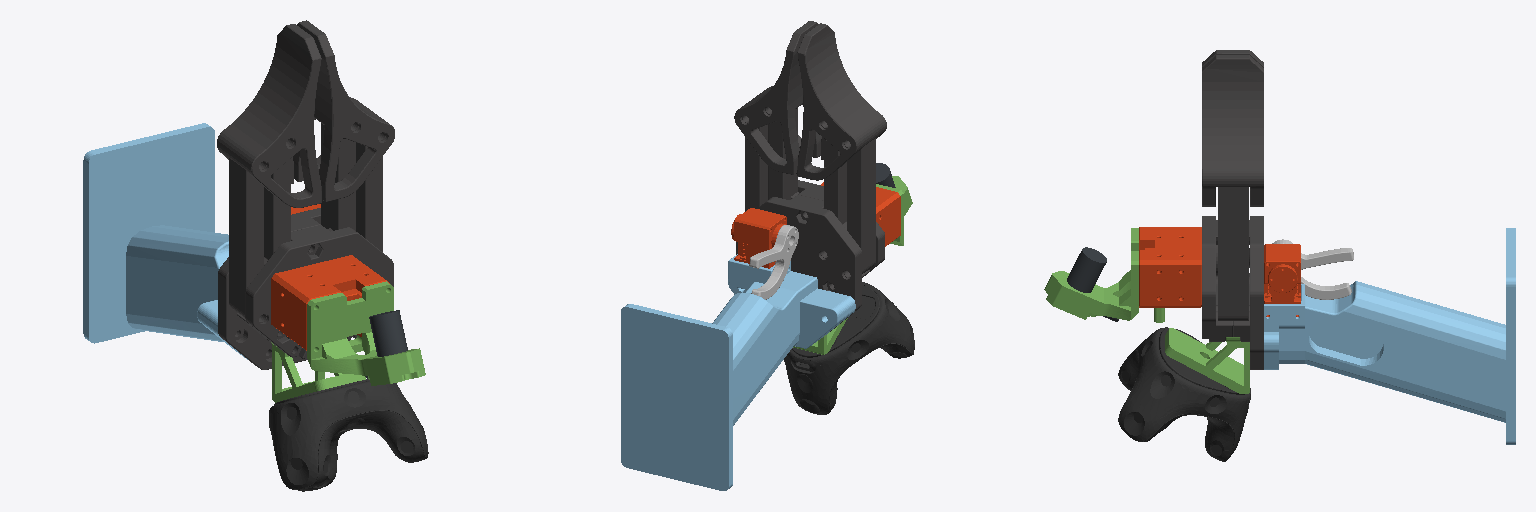
robot.urdf — umi_arai:
<?xml version='1.0' encoding='utf-8'?>
<robot name="umi_arai">
    <link name="tcp">
        <inertial>
            <mass value="1e-09" />
            <origin xyz="0 0 0" rpy="0 -0 0" />
            <inertia ixx="4e-14" ixy="0" ixz="0" iyy="4e-14" iyz="0" izz="4e-14" />
        </inertial>
    </link>
    <link name="tracker">
        <inertial>
            <mass value="1e-09" />
            <origin xyz="0 0 0" rpy="0 -0 0" />
            <inertia ixx="4e-14" ixy="0" ixz="0" iyy="4e-14" iyz="0" izz="4e-14" />
        </inertial>
    </link>
    <link name="p04_02_gear_48">
        <inertial>
            <mass value="2.34363e-05" />
            <origin xyz="-0.00361039 -0.00890563 0.0233549" rpy="0 -0 0" />
            <inertia ixx="1.93025e-08" ixy="-1.3385e-10" ixz="-2.06297e-09" iyy="1.98819e-08" iyz="-2.71778e-10" izz="1.66749e-09" />
        </inertial>
        <visual>
            <origin xyz="-0.018 -0.0084 -0.035" rpy="0 -0 0" />
            <geometry>
                <mesh filename="../meshes/P04_02_Gear_48.stl" scale="1 1 1" />
            </geometry>
            <material name="0.325490_0.317647_0.317647_0.000000_0.000000">
                <color rgba="0.32549 0.317647 0.317647 1" />
            </material>
        </visual>
    </link>
    <link name="p04_03_link">
        <inertial>
            <mass value="1.38621e-05" />
            <origin xyz="0 -0.0084 -0.0404145" rpy="0 -0 0" />
            <inertia ixx="8.43029e-09" ixy="0" ixz="0" iyy="8.22376e-09" iyz="0" izz="4.43539e-10" />
        </inertial>
        <visual>
            <origin xyz="-0.033 -0.0084 -0.107169" rpy="0 -0 0" />
            <geometry>
                <mesh filename="../meshes/P04_03_Link.stl" scale="1 1 1" />
            </geometry>
            <material name="0.325490_0.317647_0.317647_0.000000_0.000000">
                <color rgba="0.32549 0.317647 0.317647 1" />
            </material>
        </visual>
    </link>
    <link name="p04_03_link_1">
        <inertial>
            <mass value="1.38621e-05" />
            <origin xyz="0 -0.0084 0.0404145" rpy="0 -0 0" />
            <inertia ixx="8.43029e-09" ixy="0" ixz="0" iyy="8.22376e-09" iyz="0" izz="4.43539e-10" />
        </inertial>
        <visual>
            <origin xyz="-0.033 -0.0084 -0.0263397" rpy="0 -0 0" />
            <geometry>
                <mesh filename="../meshes/P04_03_Link.stl" scale="1 1 1" />
            </geometry>
            <material name="0.325490_0.317647_0.317647_0.000000_0.000000">
                <color rgba="0.32549 0.317647 0.317647 1" />
            </material>
        </visual>
    </link>
    <link name="p04_06_gear_18">
        <inertial>
            <mass value="1.62112e-05" />
            <origin xyz="0.00107291 -0.00737224 0.0340724" rpy="0 -0 0" />
            <inertia ixx="1.25054e-08" ixy="-7.63422e-11" ixz="6.82296e-10" iyy="1.25688e-08" iyz="5.84317e-10" izz="7.9402e-10" />
        </inertial>
        <visual>
            <origin xyz="0.018 -0.0084 -0.035" rpy="0 -0 0" />
            <geometry>
                <mesh filename="../meshes/P04_06_Gear_18.stl" scale="1 1 1" />
            </geometry>
            <material name="0.325490_0.317647_0.317647_0.000000_0.000000">
                <color rgba="0.32549 0.317647 0.317647 1" />
            </material>
        </visual>
    </link>
    <link name="p04_08_trigger">
        <inertial>
            <mass value="3.52817e-06" />
            <origin xyz="-0.00300001 0.0138609 -0.00851018" rpy="0 -0 0" />
            <inertia ixx="8.51097e-10" ixy="0" ixz="0" iyy="3.30557e-10" iyz="1.36516e-10" izz="5.41439e-10" />
        </inertial>
        <visual>
            <origin xyz="-0.0025 -0.027 -0.0449309" rpy="0 -0 0" />
            <geometry>
                <mesh filename="../meshes/P04_08_Trigger.stl" scale="1 1 1" />
            </geometry>
            <material name="0.800000_0.800000_0.800000_0.000000_0.000000">
                <color rgba="0.8 0.8 0.8 1" />
            </material>
        </visual>
    </link>
    <link name="P04-103-FingerL">
        <inertial>
            <mass value="3.26658e-05" />
            <origin xyz="-0.00381945 0.0084 0.01148" rpy="0 -0 0" />
            <inertia ixx="1.9352e-08" ixy="0" ixz="3.37357e-09" iyy="1.84704e-08" iyz="0" izz="6.79967e-09" />
        </inertial>
        <visual>
            <origin xyz="-0.018 0.0084 -0.090829" rpy="0 -0 0" />
            <geometry>
                <mesh filename="../meshes/P04-103-FingerL.stl" scale="1 1 1" />
            </geometry>
            <material name="0.325490_0.317647_0.317647_0.000000_0.000000">
                <color rgba="0.32549 0.317647 0.317647 1" />
            </material>
        </visual>
    </link>
    <link name="P04-103-FingerR">
        <inertial>
            <mass value="3.26658e-05" />
            <origin xyz="-0.00381945 0.009 0.01148" rpy="0 -0 0" />
            <inertia ixx="1.9352e-08" ixy="0" ixz="3.37357e-09" iyy="1.84704e-08" iyz="0" izz="6.79967e-09" />
        </inertial>
        <visual>
            <origin xyz="-0.018 0.009 -0.090829" rpy="0 -0 0" />
            <geometry>
                <mesh filename="../meshes/P04-103-FingerL.stl" scale="1 1 1" />
            </geometry>
            <material name="0.325490_0.317647_0.317647_0.000000_0.000000">
                <color rgba="0.32549 0.317647 0.317647 1" />
            </material>
        </visual>
    </link>
    <link name="P04-103-FingerR__loop_closure">
        <inertial>
            <mass value="1e-09" />
            <origin xyz="0 0 0" rpy="0 -0 0" />
            <inertia ixx="4e-14" ixy="0" ixz="0" iyy="4e-14" iyz="0" izz="4e-14" />
        </inertial>
    </link>
    <link name="P04-103-FingerL__loop_closure">
        <inertial>
            <mass value="1e-09" />
            <origin xyz="0 0 0" rpy="0 -0 0" />
            <inertia ixx="4e-14" ixy="0" ixz="0" iyy="4e-14" iyz="0" izz="4e-14" />
        </inertial>
    </link>
    <joint name="tcp_joint" type="fixed">
        <origin xyz="-0.018 0.009 0.049171" rpy="3.92364e-44 1.39753e-87 -7.12364e-44" />
        <axis xyz="0 0 1" />
        <parent link="P04-103-FingerR" />
        <child link="tcp" />
    </joint>
    <joint name="tracker_joint" type="fixed">
        <origin xyz="-2.65358726e-10 -0.0177334002 -0.0191637" rpy="-0.523599 0 0" />
        <axis xyz="0 0 1" />
        <parent link="body" />
        <child link="tracker" />
    </joint>
    <joint name="revolute_10" type="continuous">
        <origin xyz="0.0025 0.027 0.0449309" rpy="0 0 0" />
        <axis xyz="1 0 1.92088e-16" />
        <parent link="body" />
        <child link="p04_08_trigger" />
    </joint>
    <joint name="revolute_2" type="revolute">
        <origin xyz="-0.018 0.0084 0.035" rpy="-4.21799e-32 0 -3.67124e-31" />
        <axis xyz="0 1 0" />
        <parent link="body" />
        <child link="p04_06_gear_18" />
        <limit effort="1" velocity="1" lower="-1.0472" upper="0" />
    </joint>
    <joint name="revolute_3" type="revolute">
        <origin xyz="0.018 0.0084 0.035" rpy="1.70705e-27 0 -5.30433e-27" />
        <axis xyz="0 1 0" />
        <parent link="body" />
        <child link="p04_02_gear_48" />
        <limit effort="1" velocity="1" lower="0" upper="1.0472" />
    </joint>
    <joint name="revolute_4" type="continuous">
        <origin xyz="0.033 0.0084 0.0263397" rpy="-6.97382e-19 2.39808173e-14 -2.07389e-19" />
        <axis xyz="0 1 0" />
        <parent link="body" />
        <child link="p04_03_link_1" />
    </joint>
    <joint name="revolute_5" type="continuous">
        <origin xyz="-0.033 0.0084 0.0263397" rpy="3.14159 1.86517468e-14 3.14159" />
        <axis xyz="0 1 0" />
        <parent link="body" />
        <child link="p04_03_link" />
    </joint>
    <link name="body">
        <visual>
            <origin xyz="0 0 0" rpy="0 0 0" />
            <geometry>
                <mesh filename="../meshes/P04_01_Gear_24.stl" scale="1 1 1" />
            </geometry>
            <material name="0.325490_0.317647_0.317647_0.000000_0.000000">
                <color rgba="0.32549 0.317647 0.317647 1" />
            </material>
        </visual>
        <visual>
            <origin xyz="0 0 0" rpy="0 0 0" />
            <geometry>
                <mesh filename="../meshes/P04_04_Body.stl" scale="1 1 1" />
            </geometry>
            <material name="0.325490_0.317647_0.317647_0.000000_0.000000">
                <color rgba="0.32549 0.317647 0.317647 1" />
            </material>
        </visual>
        <visual>
            <origin xyz="-8.67362e-19 0 0" rpy="0 0 0" />
            <geometry>
                <mesh filename="../meshes/_330_simple.stl" scale="1 1 1" />
            </geometry>
            <material name="0.866667_0.321569_0.156863_0.000000_0.000000">
                <color rgba="0.866667 0.321569 0.156863 1" />
            </material>
        </visual>
        <visual>
            <origin xyz="0 0 0" rpy="0 0 0" />
            <geometry>
                <mesh filename="../meshes/P04_07_GripL.stl" scale="1 1 1" />
            </geometry>
            <material name="0.615686_0.811765_0.929412_0.000000_0.000000">
                <color rgba="0.615686 0.811765 0.929412 1" />
            </material>
        </visual>
        <visual>
            <origin xyz="0 0 0" rpy="0 0 0" />
            <geometry>
                <mesh filename="../meshes/P04_05_BodyMotor.stl" scale="1 1 1" />
            </geometry>
            <material name="0.325490_0.317647_0.317647_0.000000_0.000000">
                <color rgba="0.32549 0.317647 0.317647 1" />
            </material>
        </visual>
        <visual>
            <origin xyz="0 0 0" rpy="0 0 0" />
            <geometry>
                <mesh filename="../meshes/XM430.stl" scale="1 1 1" />
            </geometry>
            <material name="0.866667_0.321569_0.156863_0.000000_0.000000">
                <color rgba="0.866667 0.321569 0.156863 1" />
            </material>
        </visual>
        <visual>
            <origin xyz="-2.65358733e-10 9.9999814e-05 0" rpy="-2.84507379e-43 0 0" />
            <geometry>
                <mesh filename="../meshes/VIVE_mount.stl" scale="1 1 1" />
            </geometry>
            <material name="0.513725_0.737255_0.407843_0.000000_0.000000">
                <color rgba="0.513726 0.737255 0.407843 1" />
            </material>
        </visual>
        <visual>
            <origin xyz="-2.65358732e-10 9.9999814e-05 1.38778e-17" rpy="1.88738e-15 0 1.0223e-16" />
            <geometry>
                <mesh filename="../meshes/VIVE_Tracker_3_0_3D.stl" scale="1 1 1" />
            </geometry>
            <material name="0.250980_0.250980_0.250980_0.000000_0.000000">
                <color rgba="0.25098 0.25098 0.25098 1" />
            </material>
        </visual>
        <visual>
            <origin xyz="7.01086346e-05 -1.86040644e-10 0.0249669" rpy="0 0 3.14159" />
            <geometry>
                <mesh filename="../meshes/Cam_DXL.stl" scale="1 1 1" />
            </geometry>
            <material name="0.513725_0.737255_0.407843_0.000000_0.000000">
                <color rgba="0.513726 0.737255 0.407843 1" />
            </material>
        </visual>
        <visual>
            <origin xyz="7.01086346e-05 -1.86040644e-10 0.0249669" rpy="0 0 3.14159" />
            <geometry>
                <mesh filename="../meshes/Cam_mount1.stl" scale="1 1 1" />
            </geometry>
            <material name="0.513725_0.737255_0.407843_0.000000_0.000000">
                <color rgba="0.513726 0.737255 0.407843 1" />
            </material>
        </visual>
        <visual>
            <origin xyz="7.01086346e-05 -1.86040644e-10 0.0249669" rpy="0 0 3.14159" />
            <geometry>
                <mesh filename="../meshes/Cable_Holder.stl" scale="1 1 1" />
            </geometry>
            <material name="0.513725_0.737255_0.407843_0.000000_0.000000">
                <color rgba="0.513726 0.737255 0.407843 1" />
            </material>
        </visual>
        <visual>
            <origin xyz="7.01086346e-05 -1.86040644e-10 0.0249669" rpy="0 0 3.14159" />
            <geometry>
                <mesh filename="../meshes/Camera.stl" scale="1 1 1" />
            </geometry>
            <material name="0.262745_0.282353_0.301961_0.000000_0.000000">
                <color rgba="0.262745 0.282353 0.301961 1" />
            </material>
        </visual>
    </link>
    <joint name="revolute_6" type="continuous">
        <origin xyz="-3.46945e-18 -0.0174 0.080829" rpy="-2.01179e-27 -2.20106e-13 6.30016e-27" />
        <axis xyz="0 1 0" />
        <parent link="p04_02_gear_48" />
        <child link="P04-103-FingerR" />
    </joint>
    <joint name="revolute_7_loop_closure" type="continuous">
        <origin xyz="2.08167e-17 -0.0168 0.080829" rpy="6.97382e-19 -2.43994e-13 2.07389e-19" />
        <axis xyz="-0 1 -0" />
        <parent link="p04_03_link_1" />
        <child link="P04-103-FingerR__loop_closure" />
    </joint>
    <joint name="revolute_8_loop_closure" type="continuous">
        <origin xyz="0 0.0006 -0.080829" rpy="3.14159 2.02974e-13 -7.03317e-29" />
        <axis xyz="0 1 0" />
        <parent link="p04_03_link" />
        <child link="P04-103-FingerL__loop_closure" />
    </joint>
    <joint name="revolute_9" type="continuous">
        <origin xyz="1.04083e-17 -1.73472e-18 0.080829" rpy="-1.70906e-29 -1.84681e-13 -3.14159" />
        <axis xyz="-0 1 -0" />
        <parent link="p04_06_gear_18" />
        <child link="P04-103-FingerL" />
    </joint>
</robot>

--- What the picture shows (computed from the rendered views, not written in the file) ---
3 views of the same robot in one strip: view 1: azimuth 30°, elevation 25°; view 2: azimuth 150°, elevation 25°; view 3: azimuth 270°, elevation 25° (orthographic).
Robot: umi_arai — 12 links, 11 joints (2 revolute, 7 continuous, 2 fixed); root link body; default pose: all joints at 0.
Links seen in each view (by area): view 1: body, P04-103-FingerL, P04-103-FingerR, p04_03_link, p04_03_link_1, p04_06_gear_18, p04_02_gear_48; view 2: body, P04-103-FingerL, P04-103-FingerR, p04_03_link, p04_08_trigger, p04_03_link_1, p04_06_gear_18, p04_02_gear_48; view 3: body, P04-103-FingerR, p04_03_link_1, p04_08_trigger.
Link boxes in pixels (x1,y1,x2,y2): body: (83,123,428,491); P04-103-FingerL: (217,24,321,207); P04-103-FingerR: (293,20,394,201); p04_03_link: (229,158,263,317); p04_03_link_1: (356,143,382,251); p04_06_gear_18: (264,159,290,264); p04_02_gear_48: (321,123,355,231); body: (621,163,914,490); P04-103-FingerL: (797,23,886,180); P04-103-FingerR: (734,21,821,174); p04_03_link: (847,138,875,273); p04_08_trigger: (749,225,798,299); p04_03_link_1: (745,125,767,211); p04_06_gear_18: (824,139,846,229); p04_02_gear_48: (768,108,798,199); body: (1044,216,1515,461); P04-103-FingerR: (1202,55,1263,206); p04_03_link_1: (1218,187,1248,320); p04_08_trigger: (1272,239,1353,299).
Bounding box of the posed robot: 0.08 × 0.255 × 0.2416 m (x, y, z).
Meshes: 17 distinct files referenced, 19 mesh visuals loaded (17 binary STL).
